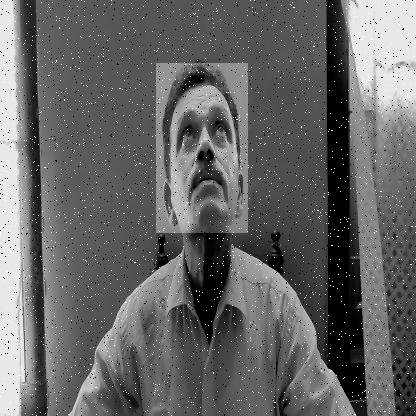Distracted: (156, 64, 248, 233)
